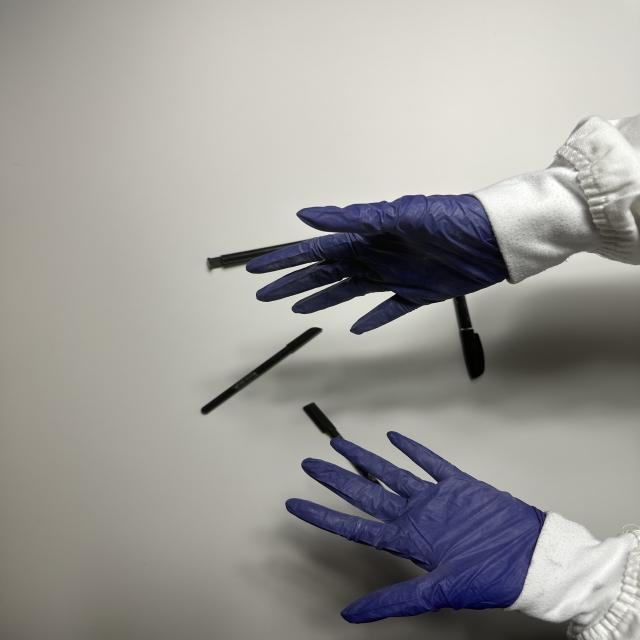gloves_contaminated: (286, 432, 546, 623), (248, 195, 507, 334)
